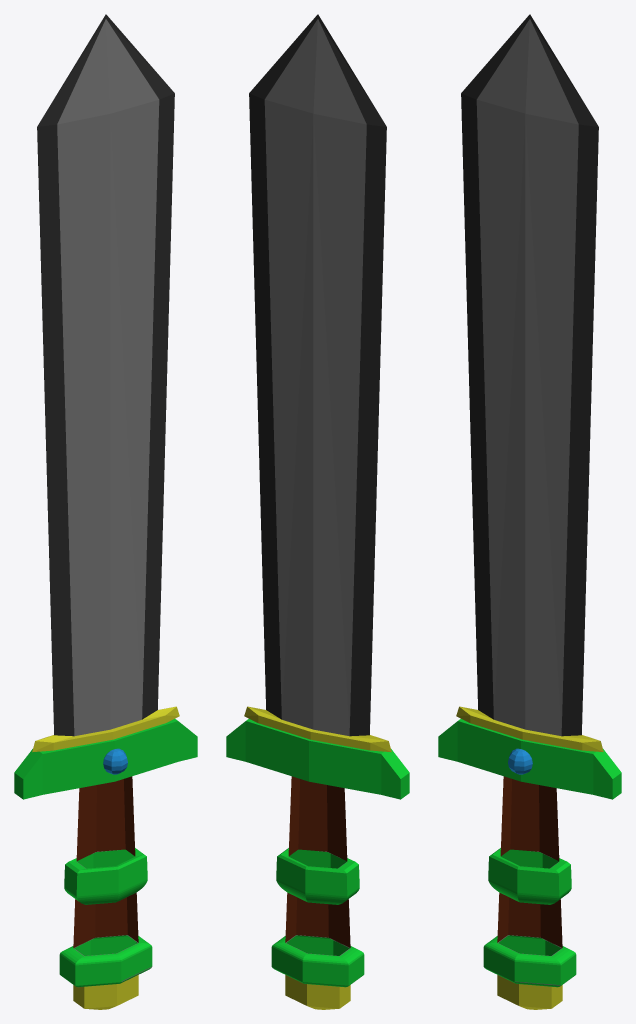
Rendered from sword2.obj.
3 renders of one model, left to right at view 1: azimuth 30°, elevation 25°; view 2: azimuth 150°, elevation 25°; view 3: azimuth 330°, elevation 25°, orthographic.
Visible parts, largest first — view 1: Cylinder; view 2: Cylinder; view 3: Cylinder.
Boxes of the visible parts, x1,y1,x2,y2 form: Cylinder: [14, 14, 197, 1009]; Cylinder: [226, 14, 409, 1009]; Cylinder: [438, 14, 621, 1009].
Size of the model in its own units: 4.46 by 24.29 by 1.38.
